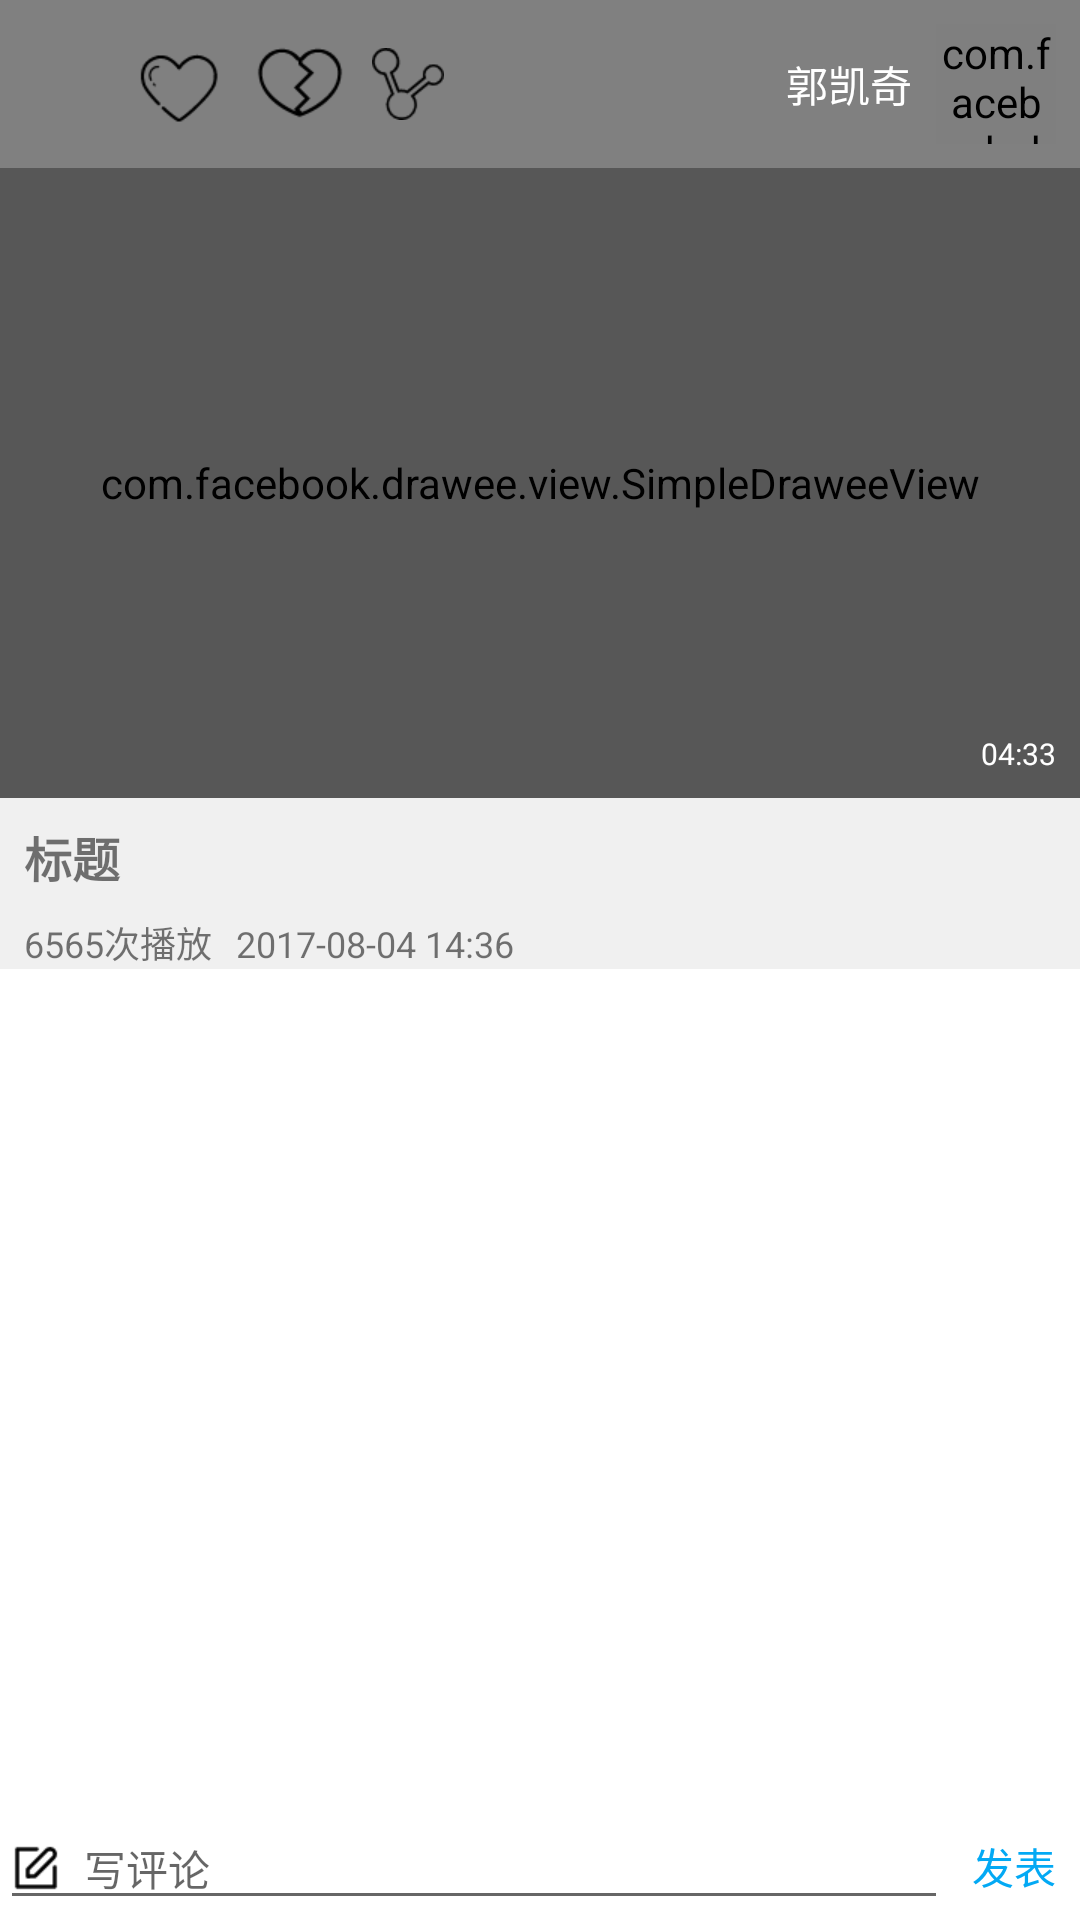

Where to tap for icons on this 1080px×1920px app screen, as point (x, y):
share: point (408, 84)
